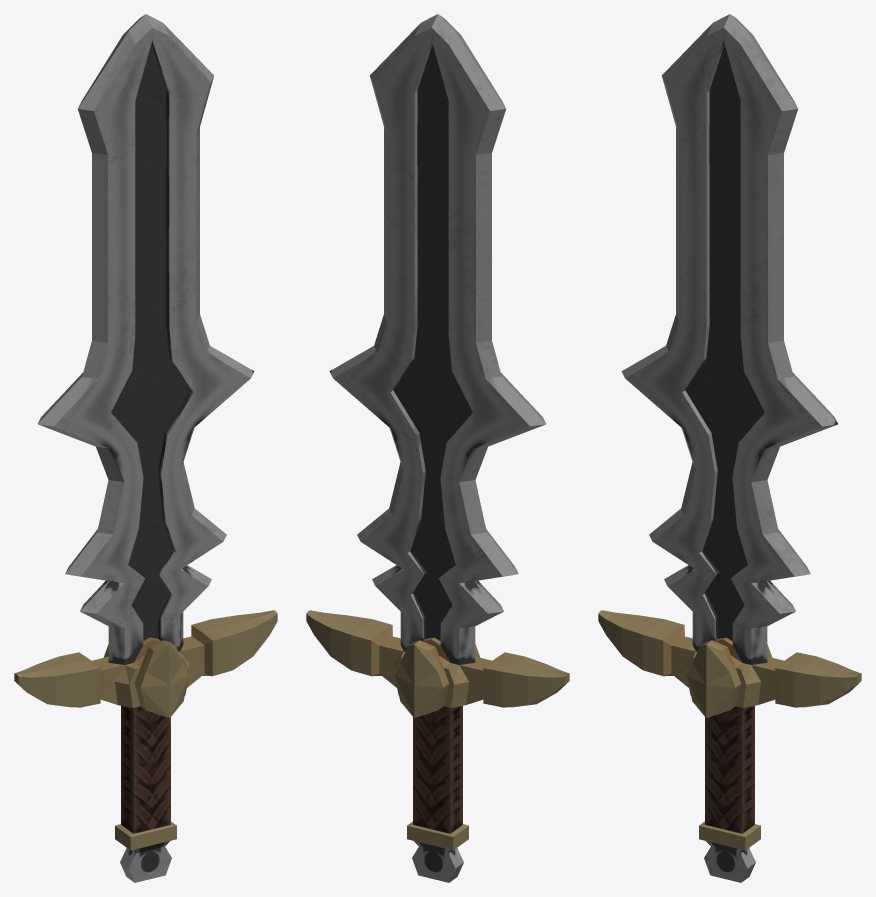
Rendered from Bone Sword.fbx.
3 views of the same model, side by side, from view 1: azimuth 30°, elevation 25°; view 2: azimuth 150°, elevation 25°; view 3: azimuth 330°, elevation 25° (orthographic).
Parts seen in each view (by area): view 1: Bone_Sword; view 2: Bone_Sword; view 3: Bone_Sword.
Boxes of the visible parts, x1=… form: Bone_Sword: x1=14, y1=14, x2=277, y2=882; Bone_Sword: x1=306, y1=14, x2=569, y2=882; Bone_Sword: x1=598, y1=14, x2=861, y2=882.
Size of the model in its own units: 143 by 455 by 45.43.
